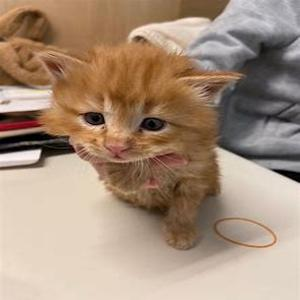cat: (44, 52, 231, 238)
